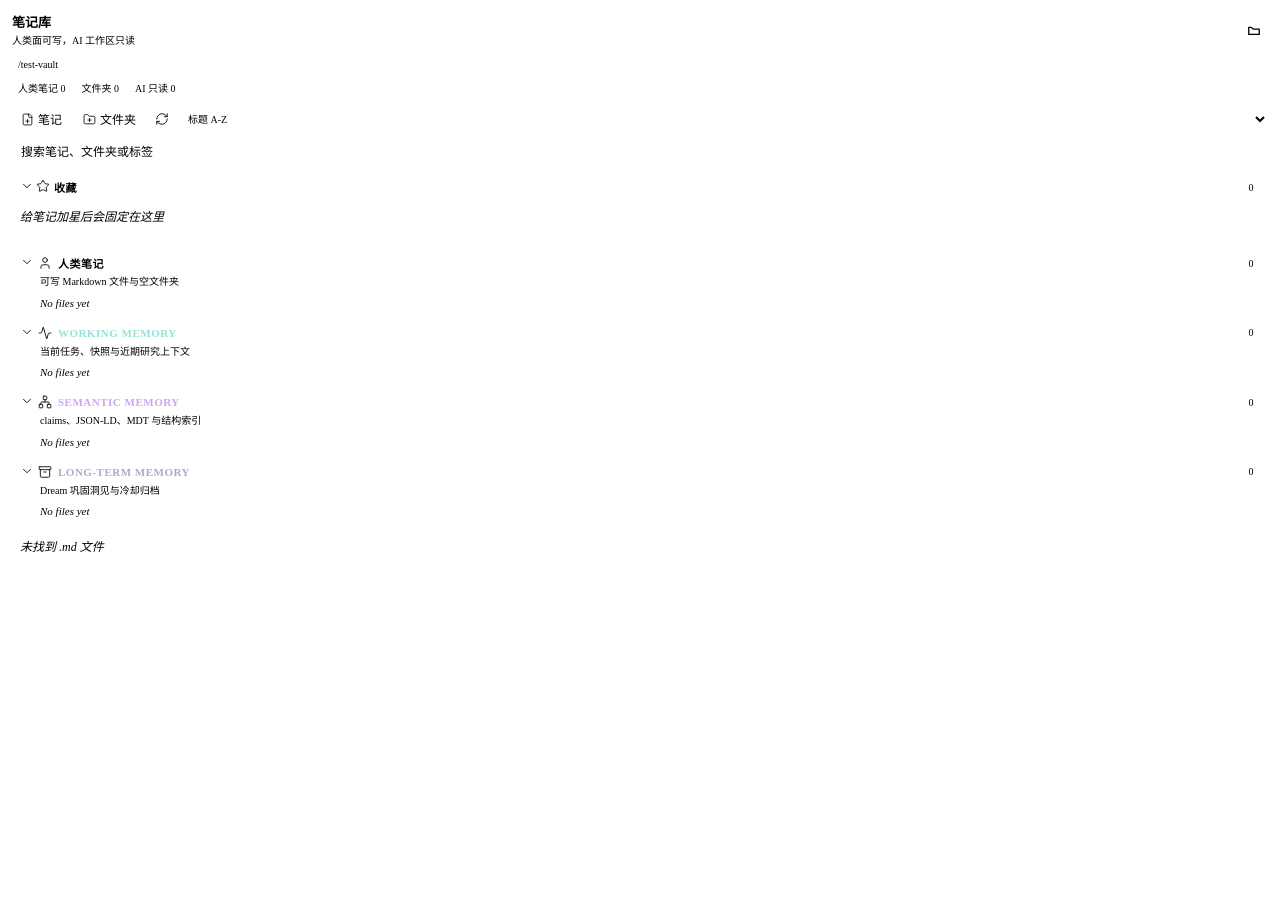
VaultBrowser › opens template picker when new note button clicked
Click the button titled "新建笔记". click: (42, 119)
box: [12, 105, 71, 133]
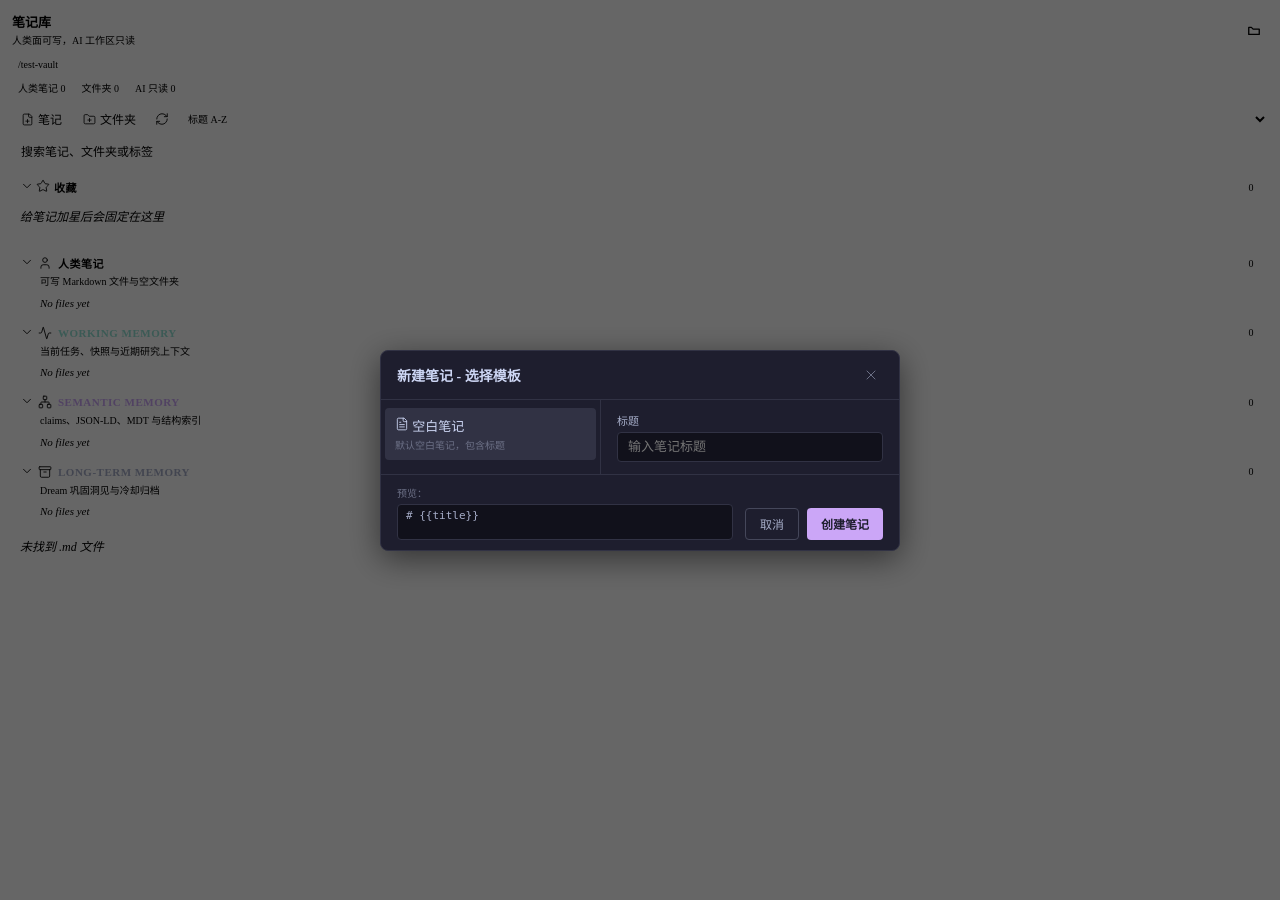
Expected: the text "新建笔记 - 选择模板" is shown, [397, 364, 521, 384]
Expected: the text "空白笔记" is shown, [395, 416, 464, 434]
